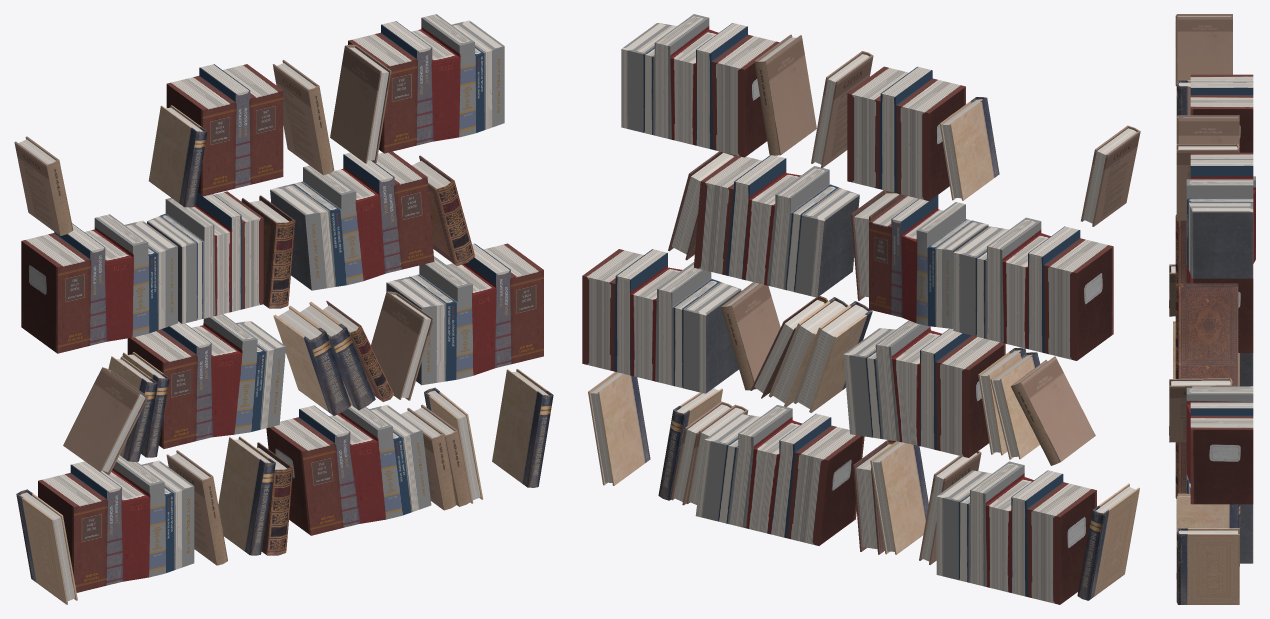
File: Book_Set_BookShelf_A.FBX
3 views of the same model, side by side, from view 1: azimuth 30°, elevation 25°; view 2: azimuth 150°, elevation 25°; view 3: azimuth 270°, elevation 25° (orthographic). The views are drawn at different scales.
Parts seen in each view (by area): view 1: Book_Set_BookShelf_A; view 2: Book_Set_BookShelf_A; view 3: Book_Set_BookShelf_A.
Part boxes in pixels (x1,y1,x2,y2): Book_Set_BookShelf_A: (14, 14, 553, 604); Book_Set_BookShelf_A: (582, 14, 1140, 604); Book_Set_BookShelf_A: (1169, 14, 1255, 604).
Size of the model in its own units: 142 by 124 by 24.34.
